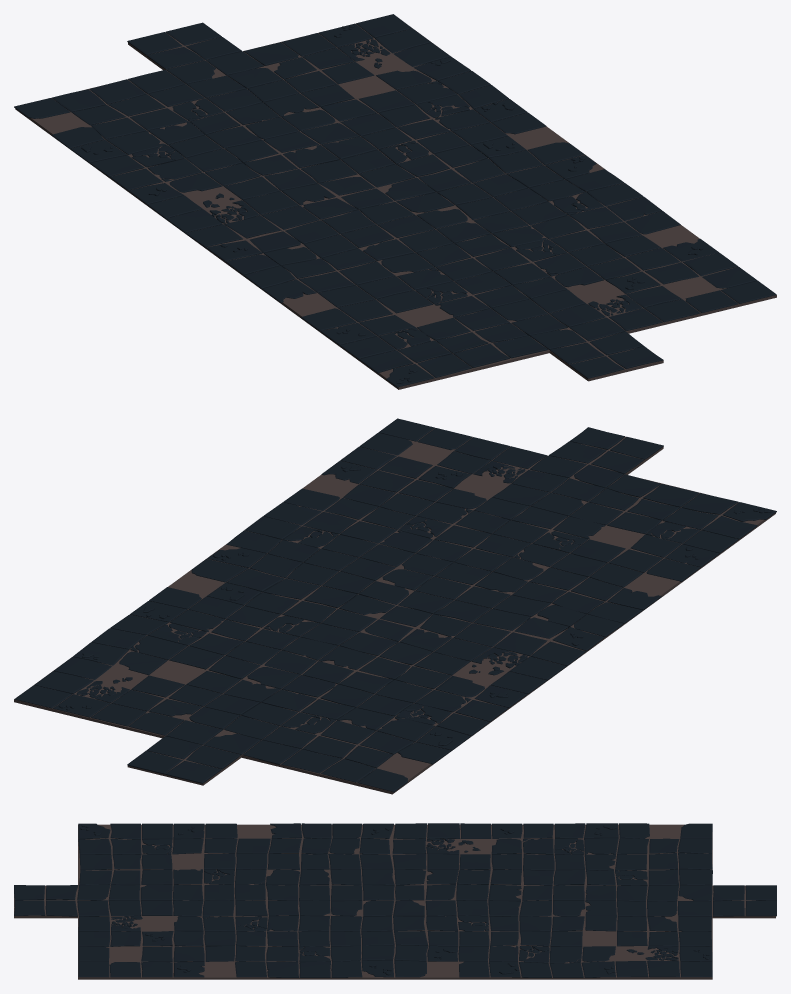
Rendered from GroundBattleNew.fbx.
The picture shows the model from 3 angles, top to bottom: view 1: azimuth 30°, elevation 25°; view 2: azimuth 150°, elevation 25°; view 3: azimuth 270°, elevation 25°; orthographic projection. The views are drawn at different scales.
Visible parts, largest first — view 1: StoneSlabs_02, Ground_02, StoneSlabsSmall_02; view 2: StoneSlabs_02, Ground_02, StoneSlabsSmall_02; view 3: StoneSlabs_02, Ground_02, StoneSlabsSmall_02.
Boxes of the visible parts, x1,y1,x2,y2 form: StoneSlabs_02: [14, 14, 776, 387]; Ground_02: [15, 23, 776, 389]; StoneSlabsSmall_02: [81, 25, 703, 383]; StoneSlabs_02: [14, 418, 776, 792]; Ground_02: [14, 428, 775, 794]; StoneSlabsSmall_02: [58, 465, 771, 745]; StoneSlabs_02: [14, 823, 776, 977]; Ground_02: [14, 824, 775, 979]; StoneSlabsSmall_02: [80, 823, 710, 975].
Bounding box in the file's own units: 1609 × 19.21 × 3366.
